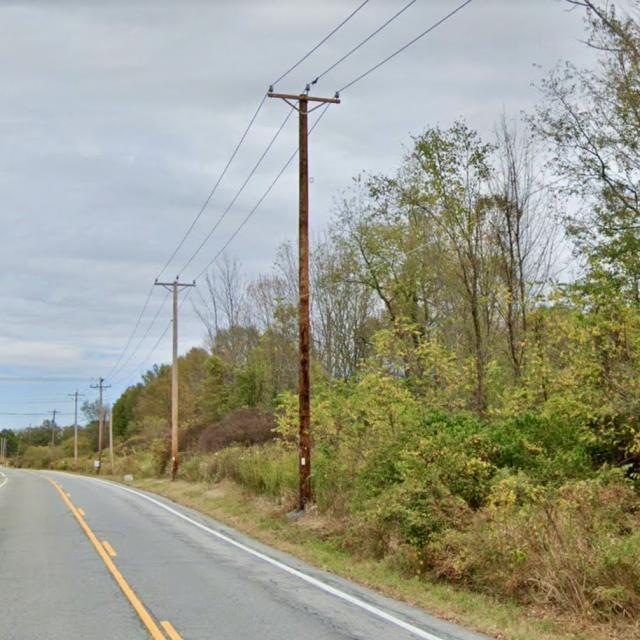light_pole: (262, 85, 352, 108), (154, 268, 198, 294), (92, 378, 111, 390)
